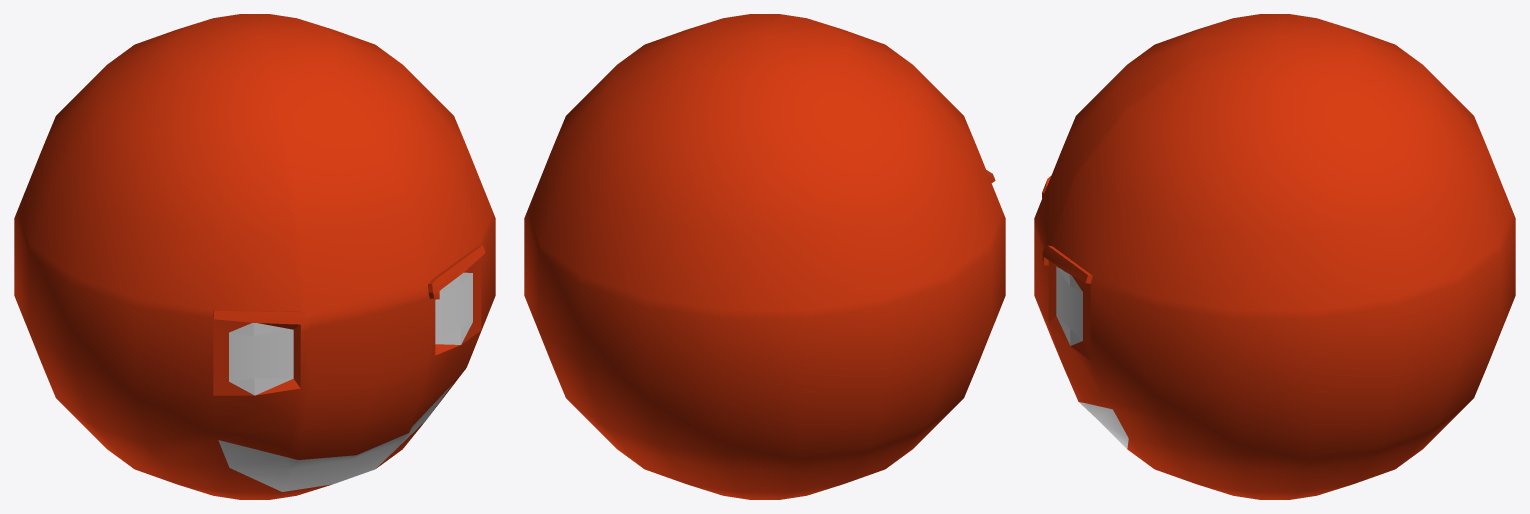
File: FIREFACE_low.FBX
The picture shows the model from 3 angles, left to right: view 1: azimuth 30°, elevation 25°; view 2: azimuth 150°, elevation 25°; view 3: azimuth 270°, elevation 25°; orthographic projection.
Parts seen in each view (by area): view 1: FIREFACE_low; view 2: FIREFACE_low; view 3: FIREFACE_low.
Part boxes in pixels (x1=…): FIREFACE_low: x1=14, y1=14, x2=495, y2=499; FIREFACE_low: x1=524, y1=14, x2=1005, y2=499; FIREFACE_low: x1=1034, y1=14, x2=1515, y2=499.
Size of the model in its own units: 9.26 by 9.55 by 9.4.
